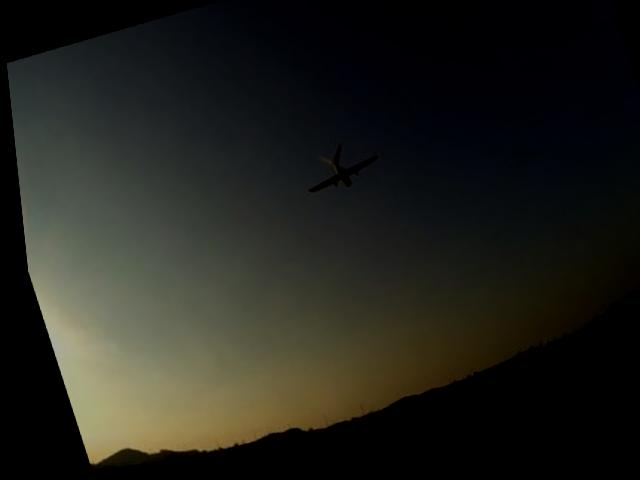uav: (283, 129, 389, 220)
